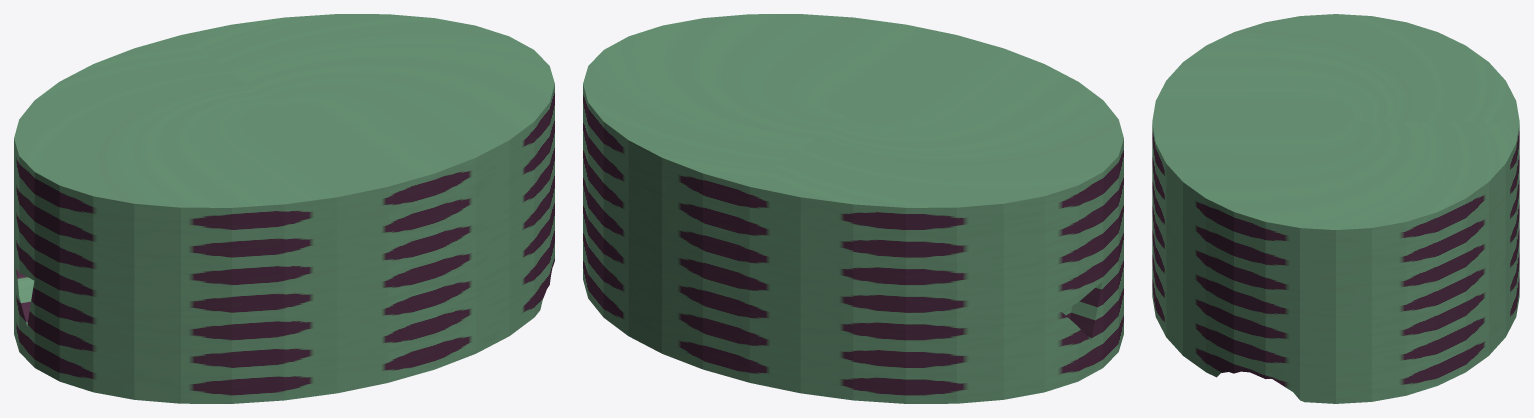
3 views of the same model, side by side, from view 1: azimuth 30°, elevation 25°; view 2: azimuth 150°, elevation 25°; view 3: azimuth 270°, elevation 25° (orthographic). The views are drawn at different scales.
Parts seen in each view (by area): view 1: geometry_0; view 2: geometry_0; view 3: geometry_0.
Part boxes in pixels (left/top/right/bottom): geometry_0: left=14, top=14, right=554, bottom=403; geometry_0: left=583, top=14, right=1123, bottom=403; geometry_0: left=1152, top=14, right=1519, bottom=403.
Bounding box in the file's own units: 3.51 × 1.32 × 2.52.
Materials: 1 (1 with a texture image).
